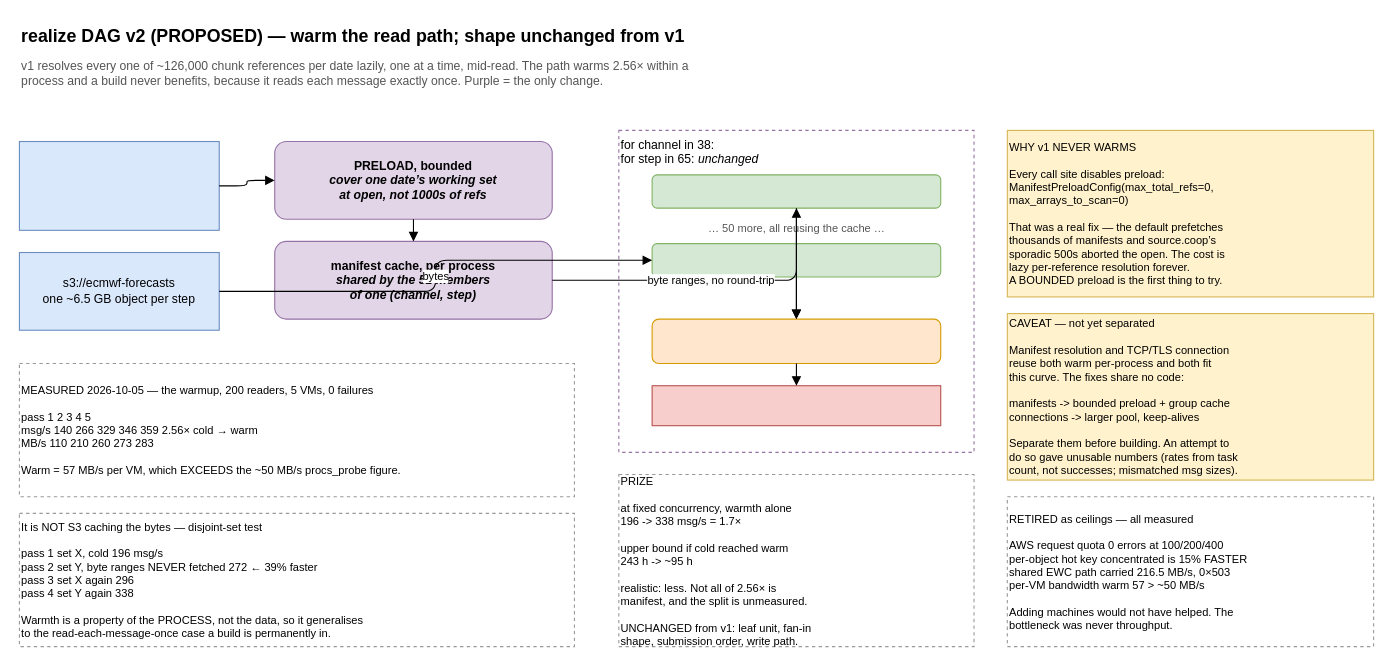
This 1393x666 diagram has some shape labels left out. The shapes that lost their labels are listed below. From the top down, each one's centre as x and y in pixels, then its label:
At point (118, 185): "source.coop virtual icechunk store manifest → byte range".
At point (796, 191): "read_message(ch, step, member=0)".
At point (796, 260): "read_message(ch, step, member=50)".
At point (796, 341): "stack_members(*51) unchanged".
At point (796, 405): "write_block → ForkSession → merge".
